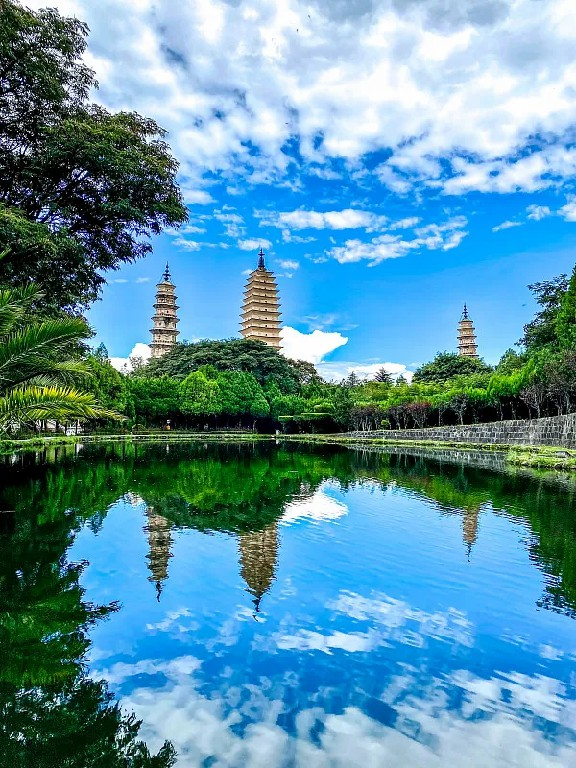ThreePagoda: (238, 249, 284, 354)
